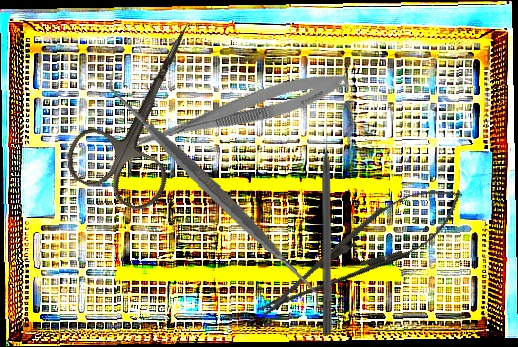Iris Scissors: (56, 2, 236, 218)
Micro Scissor: (118, 62, 354, 166)
Needle Holder: (246, 167, 475, 337)
Pusher: (322, 118, 334, 335)
Spatula Surgical: (90, 71, 339, 314)
